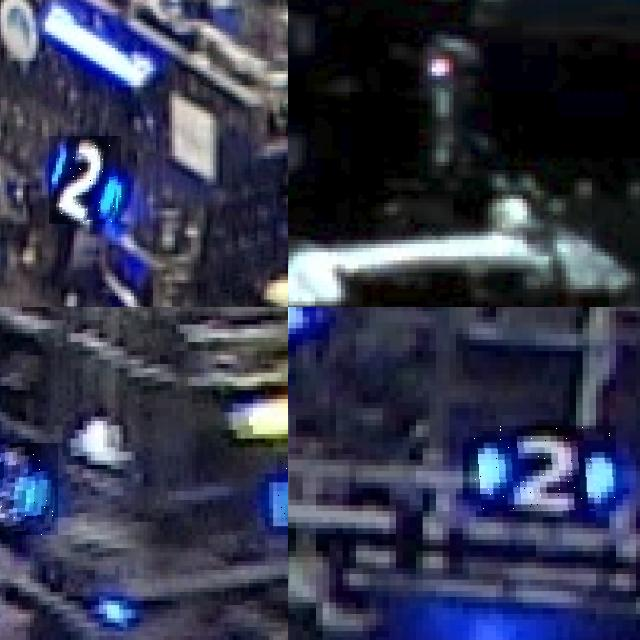B2: (469, 426, 616, 511), (49, 136, 121, 225), (0, 443, 58, 535)
